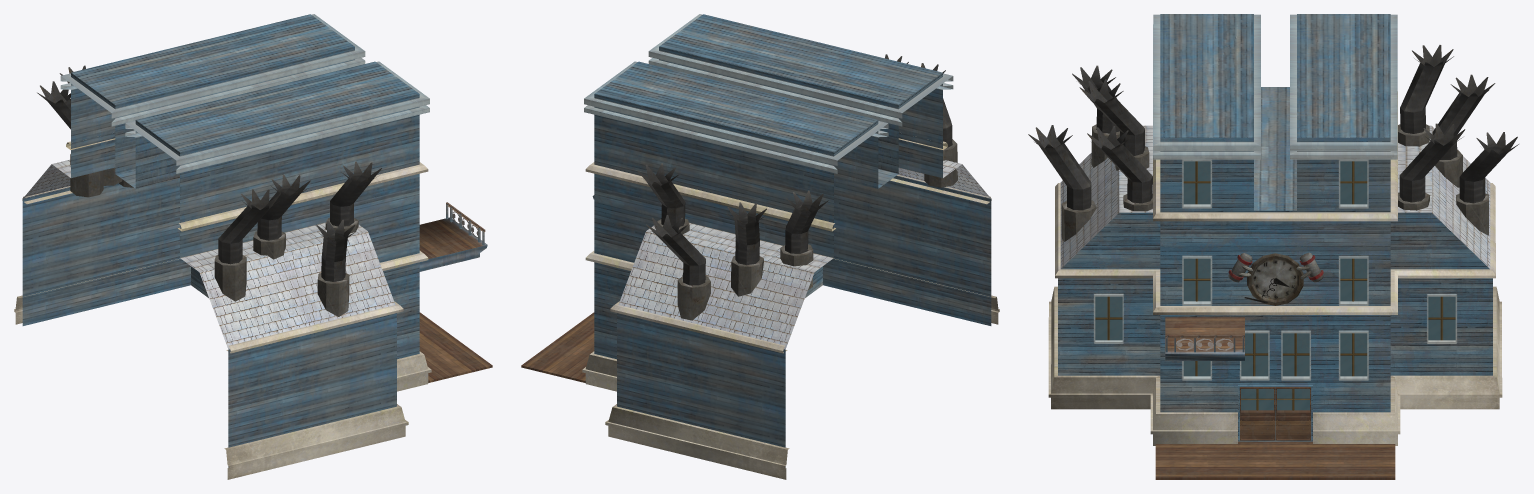
Rendered from bld_townHall.fbx.
The picture shows the model from 3 angles, left to right: view 1: azimuth 30°, elevation 25°; view 2: azimuth 150°, elevation 25°; view 3: azimuth 270°, elevation 25°; orthographic projection. The views are drawn at different scales.
Parts seen in each view (by area): view 1: bld_townHall, bld_townHallPlat; view 2: bld_townHall; view 3: bld_townHall, bld_townHallPlat.
Part boxes in pixels (x1,y1,x2,y2): bld_townHall: (14,14,492,479); bld_townHallPlat: (419,202,487,271); bld_townHall: (521,14,999,479); bld_townHall: (1028,14,1518,479); bld_townHallPlat: (1165,317,1244,360).
Size of the model in its own units: 1661 by 1428 by 2081.
